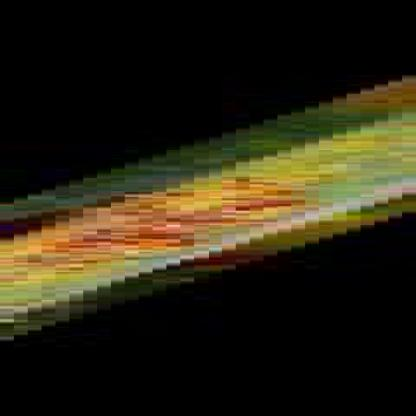wheat Stem Rust: (58, 176, 374, 209), (48, 218, 258, 248), (8, 254, 124, 270)
